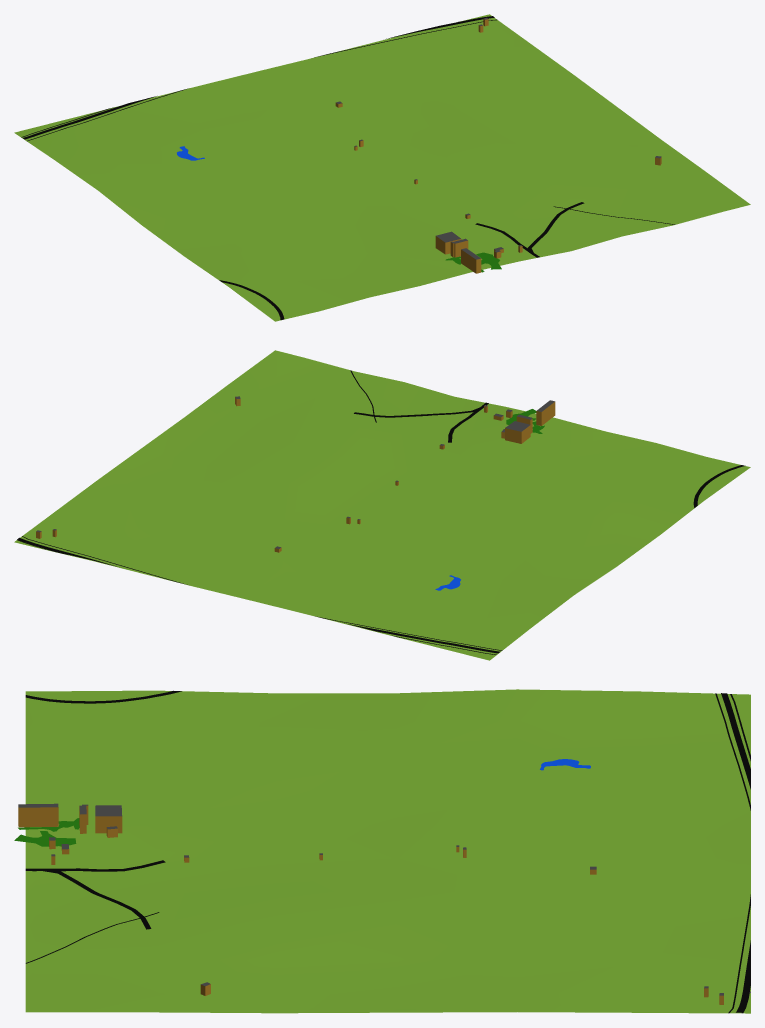
File: tile_09_02.glb
3 renders of one model, top to bottom at view 1: azimuth 30°, elevation 25°; view 2: azimuth 150°, elevation 25°; view 3: azimuth 270°, elevation 25°, orthographic. The views are drawn at different scales.
Visible parts, largest first — view 1: Terrain_09_02, Ub_small.osm_buildings_09_02, Ub_small.osm_roads_unclassified_09_02, Ub_small.osm_roads_secondary_09_02, Ub_small.osm_paths_footway_09_02; view 2: Terrain_09_02, Ub_small.osm_buildings_09_02, Ub_small.osm_roads_unclassified_09_02, Ub_small.osm_roads_secondary_09_02, Ub_small.osm_paths_footway_09_02; view 3: Terrain_09_02, Ub_small.osm_buildings_09_02, Ub_small.osm_roads_unclassified_09_02, Ub_small.osm_roads_secondary_09_02, Ub_small.osm_forest_09_02, Ub_small.osm_paths_footway_09_02.
Boxes of the visible parts, x1,y1,x2,y2 form: Terrain_09_02: (14,14,750,321); Ub_small.osm_buildings_09_02: (335,17,661,273); Ub_small.osm_roads_unclassified_09_02: (219,202,584,319); Ub_small.osm_roads_secondary_09_02: (23,16,494,139); Ub_small.osm_paths_footway_09_02: (27,19,675,224); Terrain_09_02: (14,350,750,660); Ub_small.osm_buildings_09_02: (36,396,555,552); Ub_small.osm_roads_unclassified_09_02: (354,402,745,507); Ub_small.osm_roads_secondary_09_02: (17,537,500,653); Ub_small.osm_paths_footway_09_02: (22,370,502,650); Terrain_09_02: (25,689,750,1013); Ub_small.osm_buildings_09_02: (18,803,723,1004); Ub_small.osm_roads_unclassified_09_02: (25,690,181,929); Ub_small.osm_roads_secondary_09_02: (721,693,750,1012); Ub_small.osm_forest_09_02: (14,818,79,846); Ub_small.osm_paths_footway_09_02: (25,693,750,1013).
Bounding box in the file's own units: 978 × 34.86 × 945.
